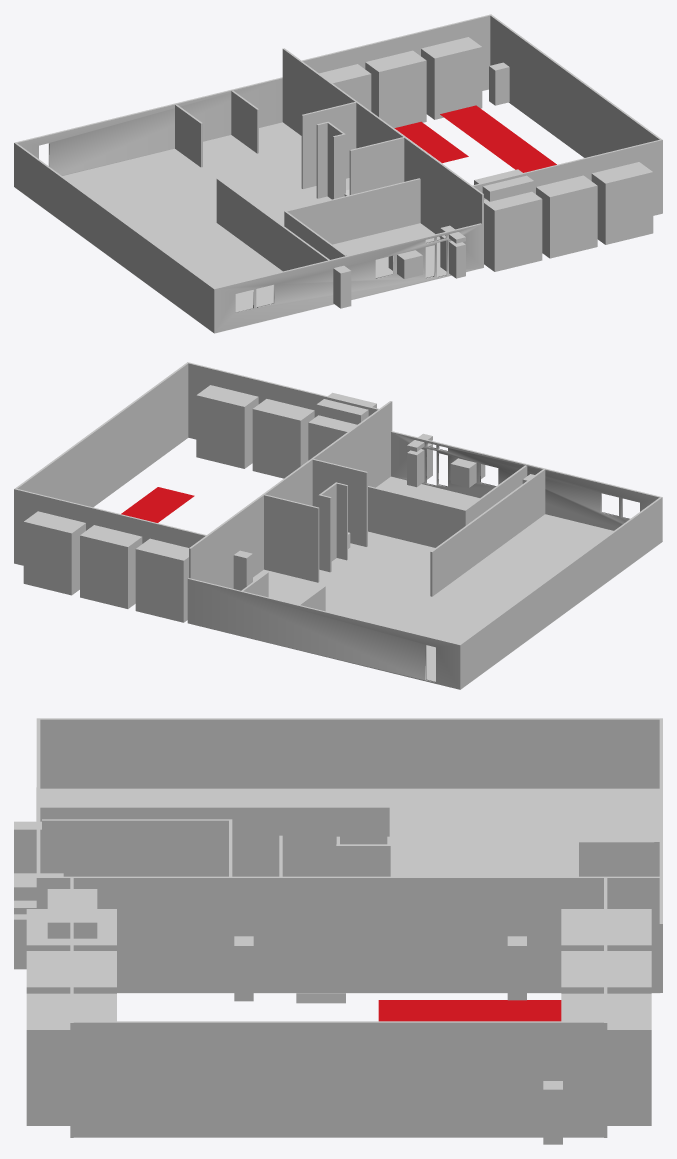
Rendered from firestationv4.fbx.
The picture shows the model from 3 angles, top to bottom: view 1: azimuth 30°, elevation 25°; view 2: azimuth 150°, elevation 25°; view 3: azimuth 270°, elevation 25°; orthographic projection. The views are drawn at different scales.
Parts seen in each view (by area): view 1: Plane.002, exterior wall.014, exterior wall.005, exterior wall, exterior wall.006, exterior wall.001, interior wall.009, interior wall, Cube.003, Cube.002, Cube.001, Cube.008 (+19 smaller); view 2: Plane.002, exterior wall.005, exterior wall.014, exterior wall, exterior wall.001, exterior wall.006, interior wall, Cube.008, Cube.003, interior wall.001, Cube.007, exterior wall.003 (+15 smaller); view 3: exterior wall.014, exterior wall.001, exterior wall, Plane.002, interior wall, interior wall.008, Cube.003, Cube.008, ft, Cube.002, Cube.007, Cube.005 (+14 smaller).
Part boxes in pixels (left/top/right/bottom): Plane.002: left=16, top=122, right=482, bottom=333; exterior wall.014: left=490, top=15, right=661, bottom=157; exterior wall.005: left=14, top=77, right=282, bottom=187; exterior wall: left=15, top=143, right=214, bottom=332; exterior wall.006: left=213, top=223, right=481, bottom=333; exterior wall.001: left=282, top=48, right=483, bottom=267; interior wall.009: left=286, top=178, right=420, bottom=244; interior wall: left=216, top=178, right=329, bottom=271; Cube.003: left=591, top=162, right=653, bottom=244; Cube.002: left=536, top=175, right=597, bottom=258; Cube.001: left=484, top=191, right=542, bottom=271; Cube.008: left=421, top=37, right=482, bottom=119; Plane.002: left=253, top=476, right=661, bottom=688; exterior wall.005: left=187, top=578, right=461, bottom=689; exterior wall.014: left=15, top=363, right=188, bottom=507; exterior wall: left=460, top=497, right=661, bottom=688; exterior wall.001: left=189, top=401, right=392, bottom=588; exterior wall.006: left=391, top=431, right=662, bottom=541; interior wall: left=430, top=469, right=545, bottom=596; Cube.008: left=23, top=511, right=85, bottom=595; Cube.003: left=196, top=385, right=258, bottom=468; interior wall.001: left=264, top=494, right=319, bottom=582; Cube.007: left=80, top=525, right=142, bottom=608; exterior wall.003: left=14, top=488, right=206, bottom=565; exterior wall.014: left=73, top=1021, right=603, bottom=1137; exterior wall.001: left=36, top=876, right=659, bottom=992; exterior wall: left=39, top=718, right=659, bottom=788; Plane.002: left=36, top=787, right=659, bottom=993; interior wall: left=39, top=806, right=389, bottom=876; interior wall.008: left=42, top=819, right=232, bottom=876; Cube.003: left=26, top=993, right=116, bottom=1125; Cube.008: left=561, top=993, right=651, bottom=1125; ft: left=378, top=1000, right=561, bottom=1021; Cube.002: left=26, top=951, right=116, bottom=993; Cube.007: left=561, top=951, right=651, bottom=993; Cube.005: left=561, top=909, right=651, bottom=950.
Size of the model in its own units: 3422 by 612 by 2614.
